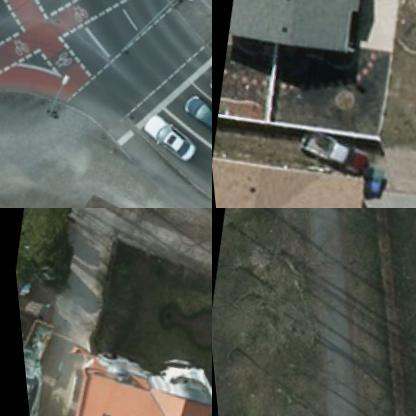car: (132, 116, 194, 176), (170, 94, 211, 148), (195, 71, 211, 131)
pickup: (282, 119, 379, 190)
